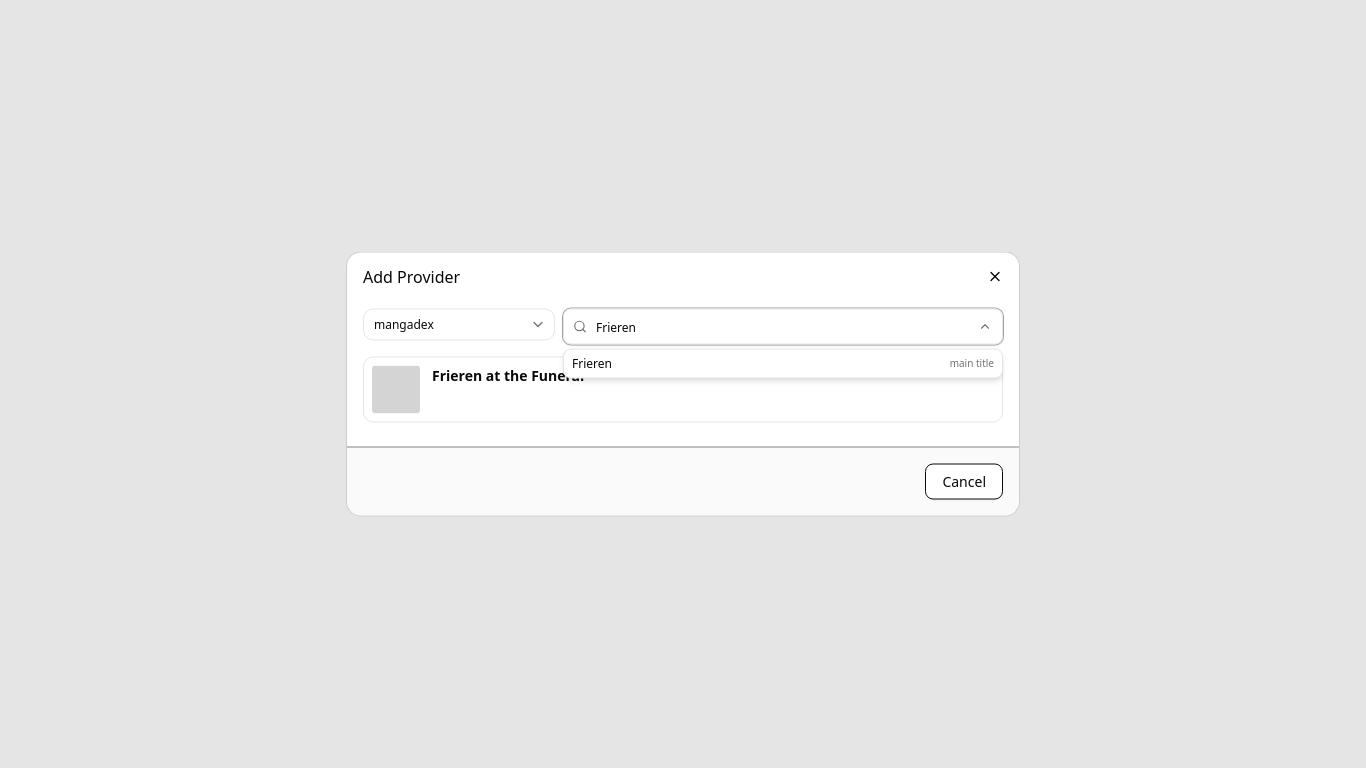
AddProviderDialog › proxies confirmation step cover image and hides image on error
Expected: the text "Frieren at the Funeral" is shown, [432,366,584,384]
What coordinates should you click on to do the following:
click the button "Frieren at the Funeral"
I would click on:
 (396, 390)
Its box is [364,358,1002,422].
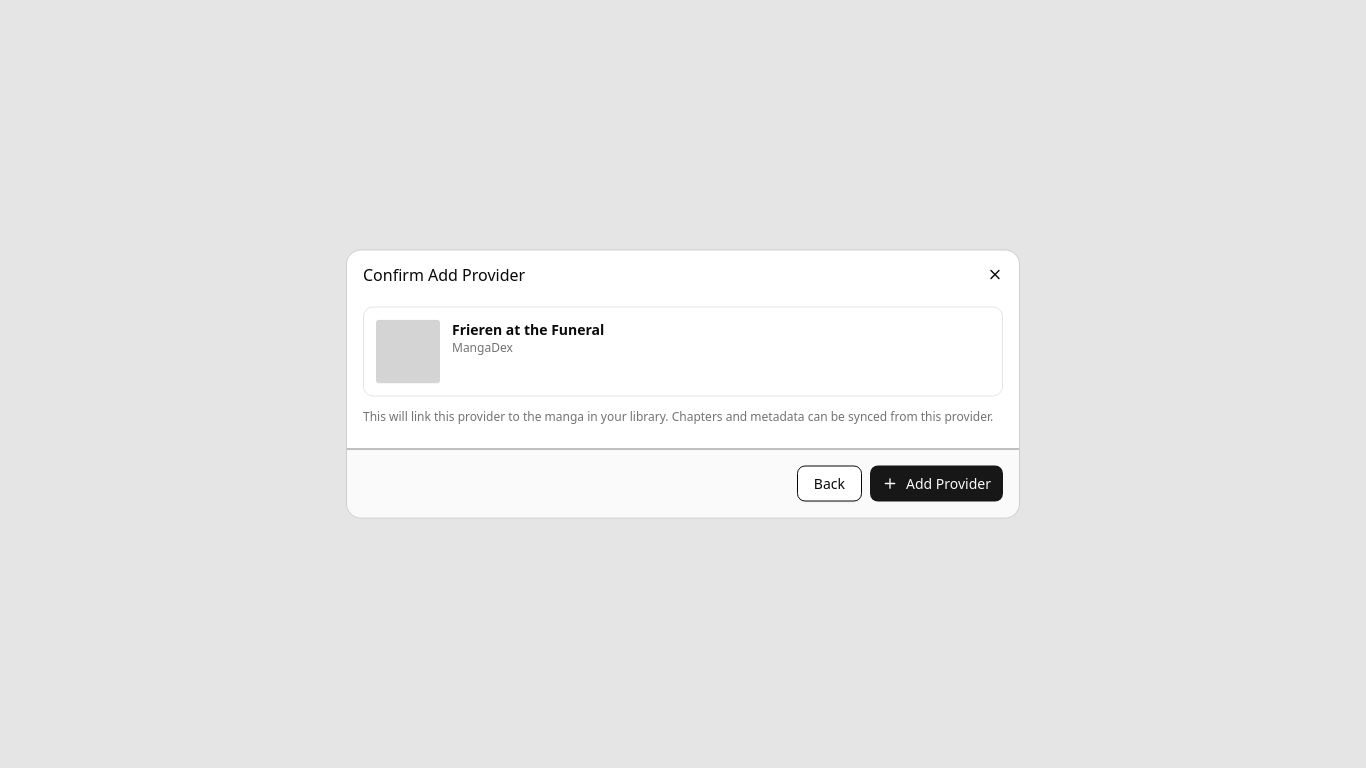
Expected: the heading "Confirm Add Provider" is shown, [363,264,525,286]
